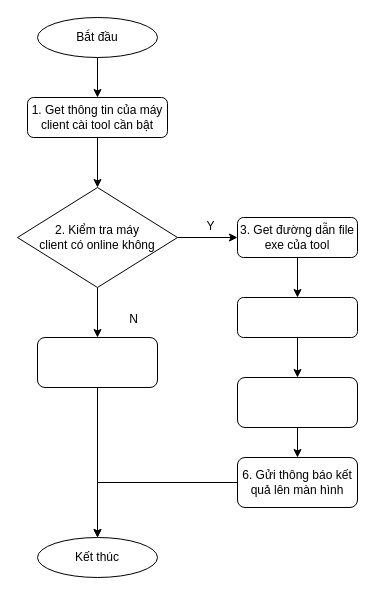
Image size: 375x595. Some labels were removed from this diagram. The shapes that lost their labels are listed below. From the top down, each one's centre as x and y in pixels, then its label:
pixel 297 317: 4. Gửi đường dẫn file exe đến Tool Client
pixel 97 362: 7. Gửi thông báo máy client offline lên màn hình
pixel 297 402: 5. Tool Client thực hiện xử lý chạy file exe
